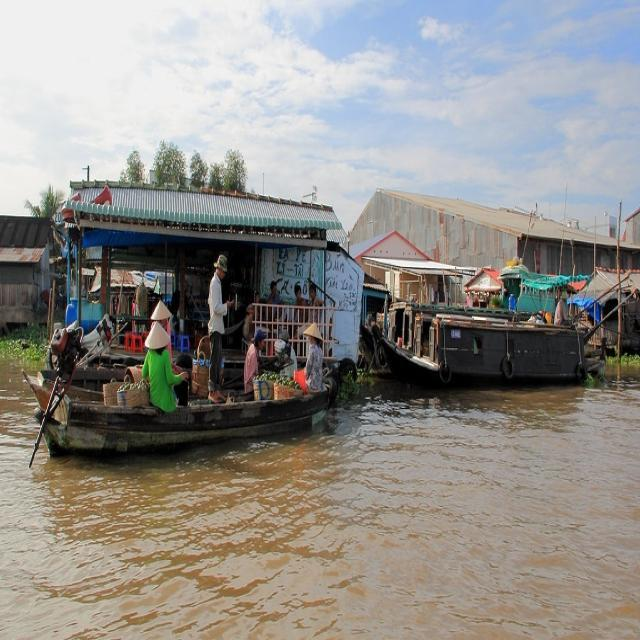Hyacinth: (4, 334, 46, 370), (602, 346, 640, 374)
boat: (14, 380, 346, 460), (361, 313, 599, 398)
